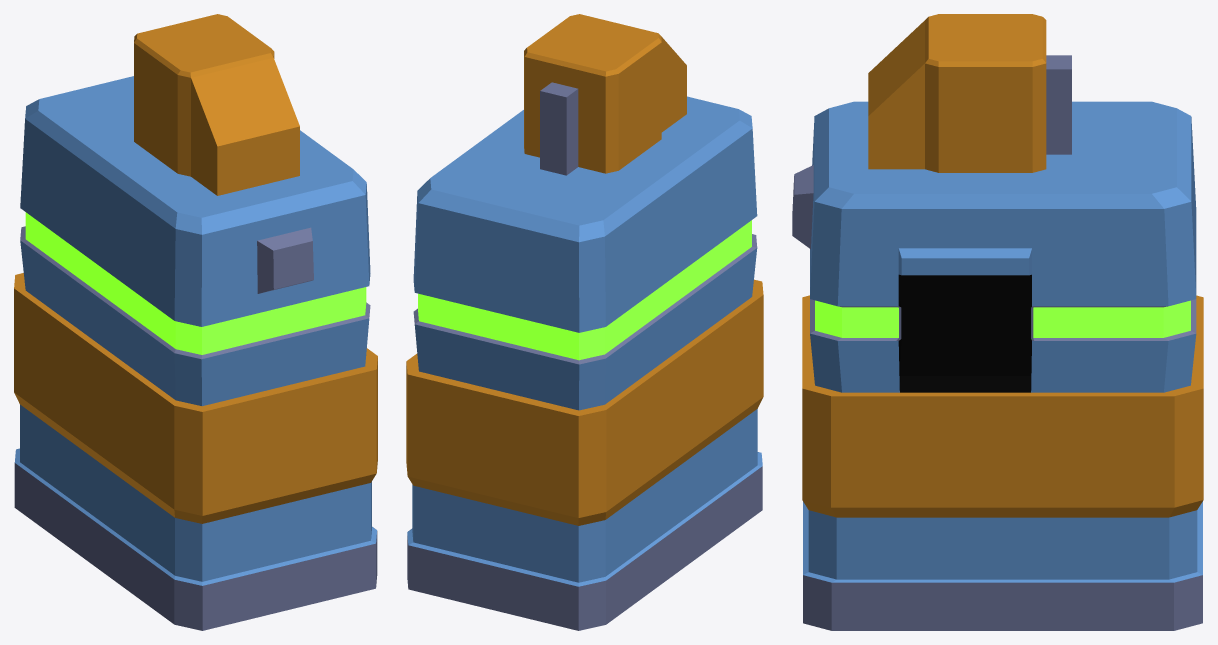
Rendered from Caixa_com_furo_MMX.fbx.
The picture shows the model from 3 angles, left to right: view 1: azimuth 30°, elevation 25°; view 2: azimuth 150°, elevation 25°; view 3: azimuth 270°, elevation 25°; orthographic projection. The views are drawn at different scales.
Parts seen in each view (by area): view 1: Cube; view 2: Cube; view 3: Cube.
Boxes of the visible parts, x1,y1,x2,y2 form: Cube: [14, 14, 377, 630]; Cube: [406, 14, 763, 630]; Cube: [792, 14, 1203, 630].
Bounding box in the file's own units: 213 × 489 × 337.
